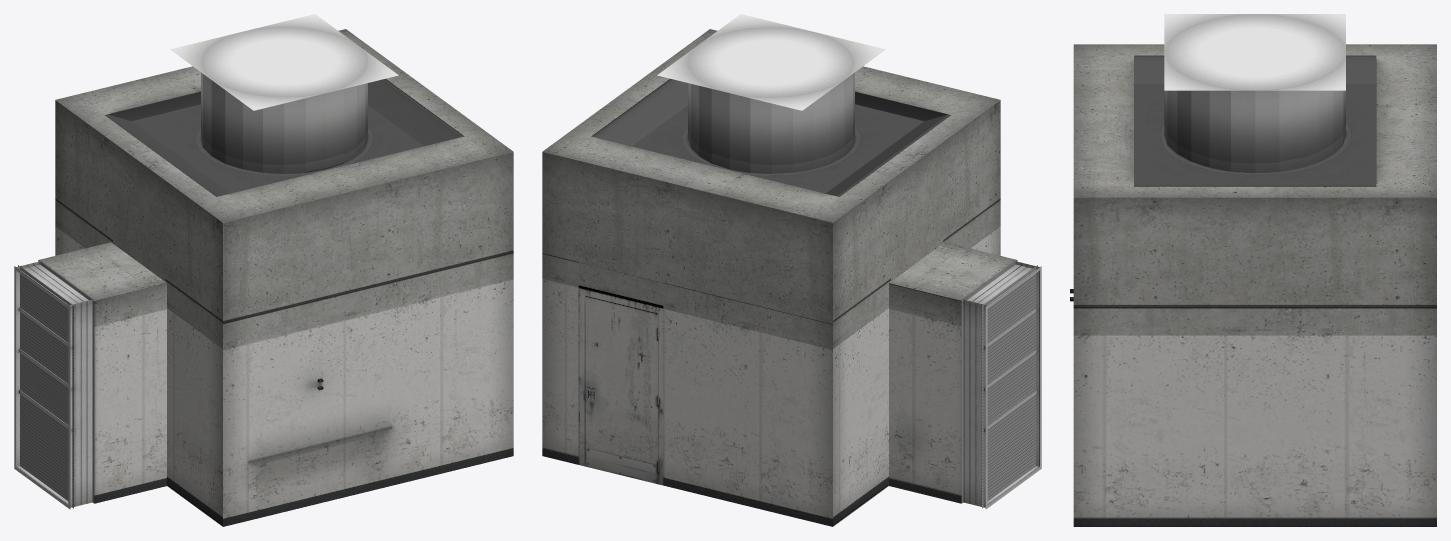
Rendered from obroom_64.obj.
3 views of the same model, side by side, from view 1: azimuth 30°, elevation 25°; view 2: azimuth 150°, elevation 25°; view 3: azimuth 270°, elevation 25° (orthographic). The views are drawn at different scales.
Visible parts, largest first — view 1: obroom_1.mdl/obroom_1.smd.001, refract01_dx8; view 2: obroom_1.mdl/obroom_1.smd.001, refract01_dx8; view 3: obroom_1.mdl/obroom_1.smd.001.
Boxes of the visible parts, x1,y1,x2,y2 form: obroom_1.mdl/obroom_1.smd.001: (14, 14, 513, 526); refract01_dx8: (18, 265, 73, 508); obroom_1.mdl/obroom_1.smd.001: (542, 14, 1041, 526); refract01_dx8: (982, 265, 1037, 508); obroom_1.mdl/obroom_1.smd.001: (1070, 14, 1436, 526).
Bounding box in the file's own units: 4 × 3.62 × 3.03.
